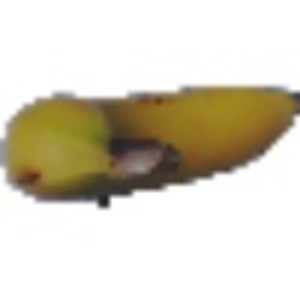banana: (3, 64, 295, 207)
